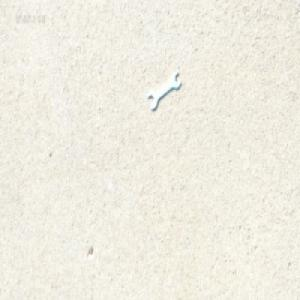Wrench: (149, 71, 182, 110)
